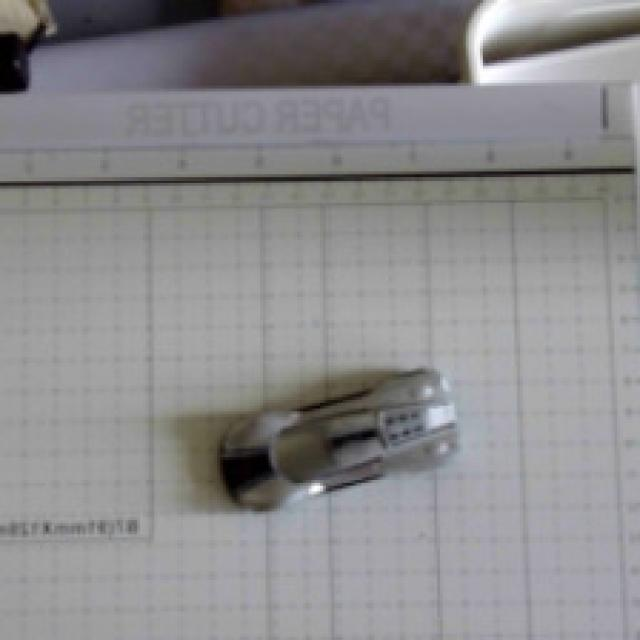Grey Car: (186, 304, 483, 538)
